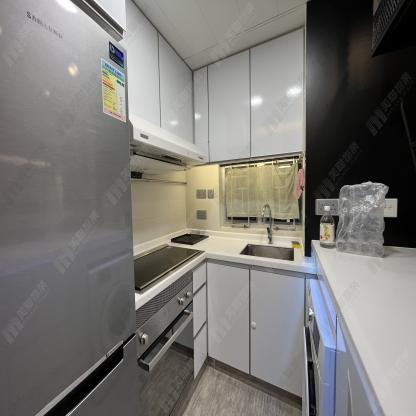Cupboard: (129, 0, 308, 160), (203, 263, 307, 403)
Exhaust Hood: (130, 111, 205, 173)
Fridge: (1, 0, 138, 416)
Oven: (136, 278, 194, 416)
Sink: (234, 243, 294, 261)
Stove: (134, 241, 203, 292)
